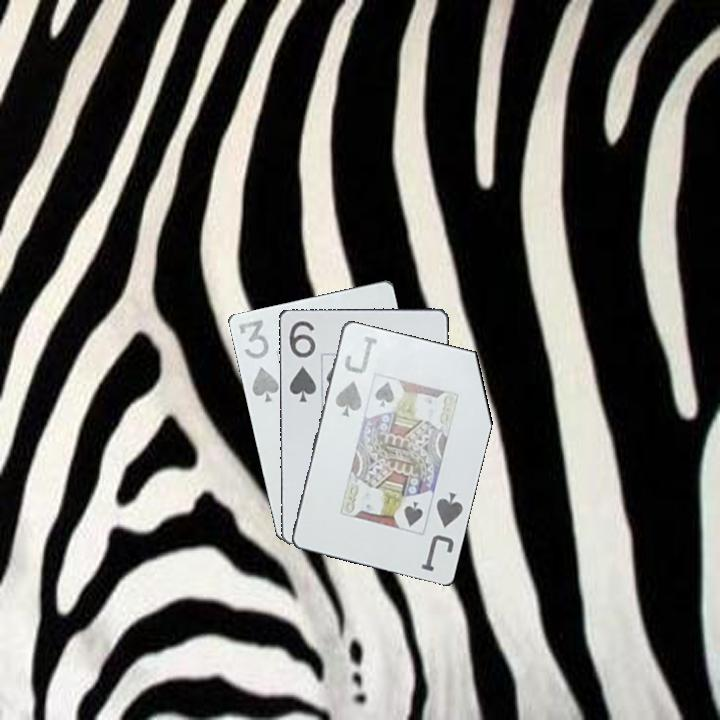3s: (235, 315, 282, 405)
6s: (285, 317, 319, 405)
Js: (331, 330, 380, 419), (417, 488, 466, 574)
